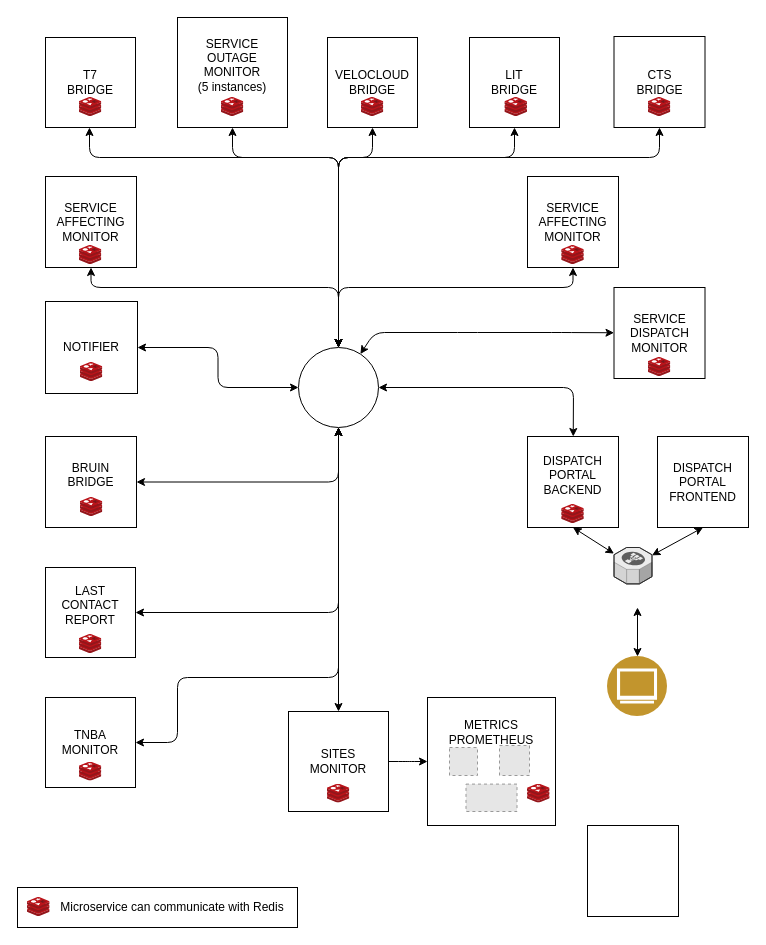
The diagram is 766 pixels wide and 945 high, and some of its shapes have lost their labels. Grey dashed boxes stand in for pictures. The shapes that lost their labels are listed below. From the top down, each one's centre as x and y in pixels, then its label:
the point at 338,387: NATS CLUSTER (3 NATS instances)
the point at 632,565: REVERSE PROXY
the point at 637,686: WEB CLIENT
the point at 632,870: LUMIN BILLING REPORT
